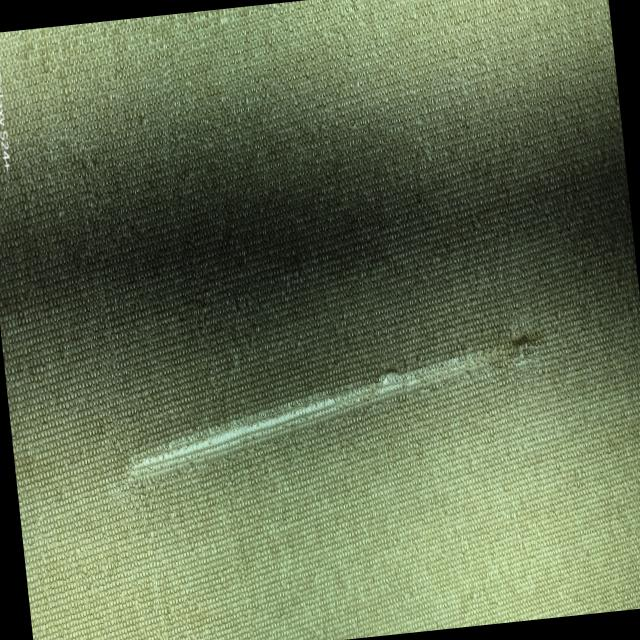Warp_Weft: (109, 331, 552, 494)
